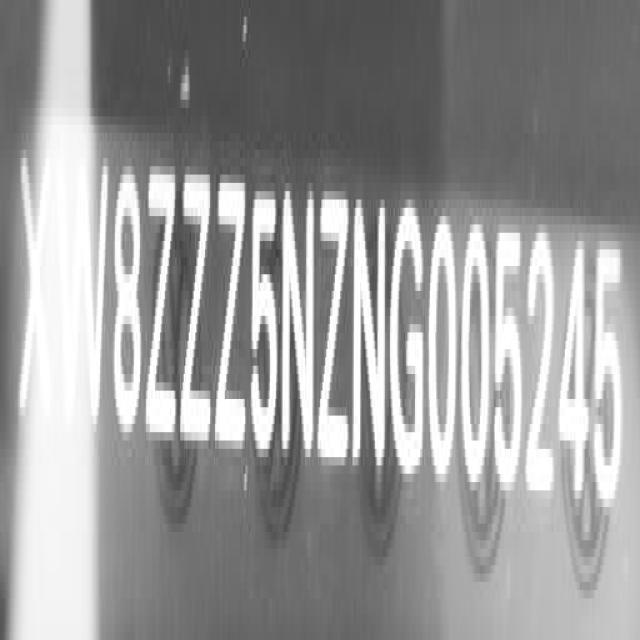0: (428, 202, 458, 492), (462, 209, 492, 495)
2: (528, 222, 556, 511)
4: (558, 228, 591, 520)
5: (596, 233, 627, 525), (250, 173, 280, 472), (495, 212, 525, 503)
8: (112, 156, 142, 452)
G: (390, 191, 427, 489)
N: (352, 183, 389, 487), (284, 172, 318, 476)
W: (50, 145, 107, 447)
X: (12, 139, 53, 447)
Z: (215, 168, 248, 470), (181, 156, 213, 466), (318, 176, 349, 481), (144, 155, 175, 453)
